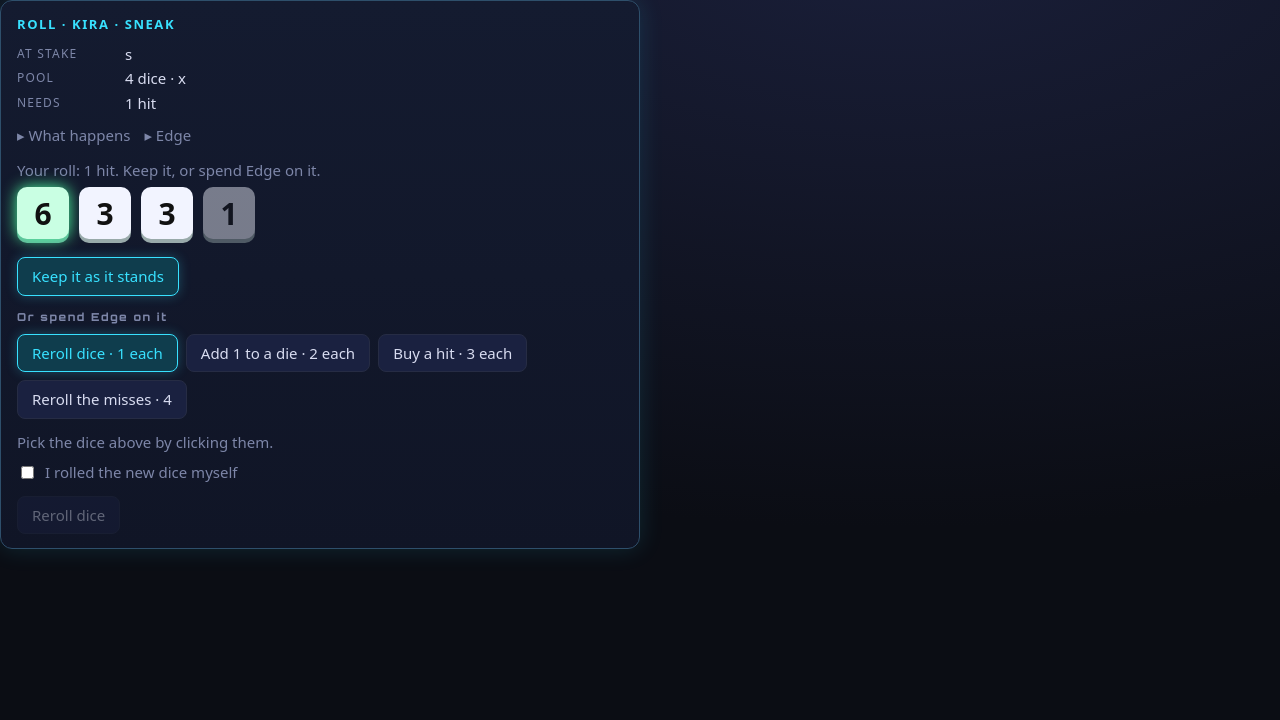
Scenario: a roll that is held › names what it will do, with no cost, until dice are picked
Expected: the button "Reroll dice" is shown, [17, 496, 120, 534]
Click the radio button labelled "Add 1 to a die · 2 each" at (278, 353), box [186, 334, 370, 372]
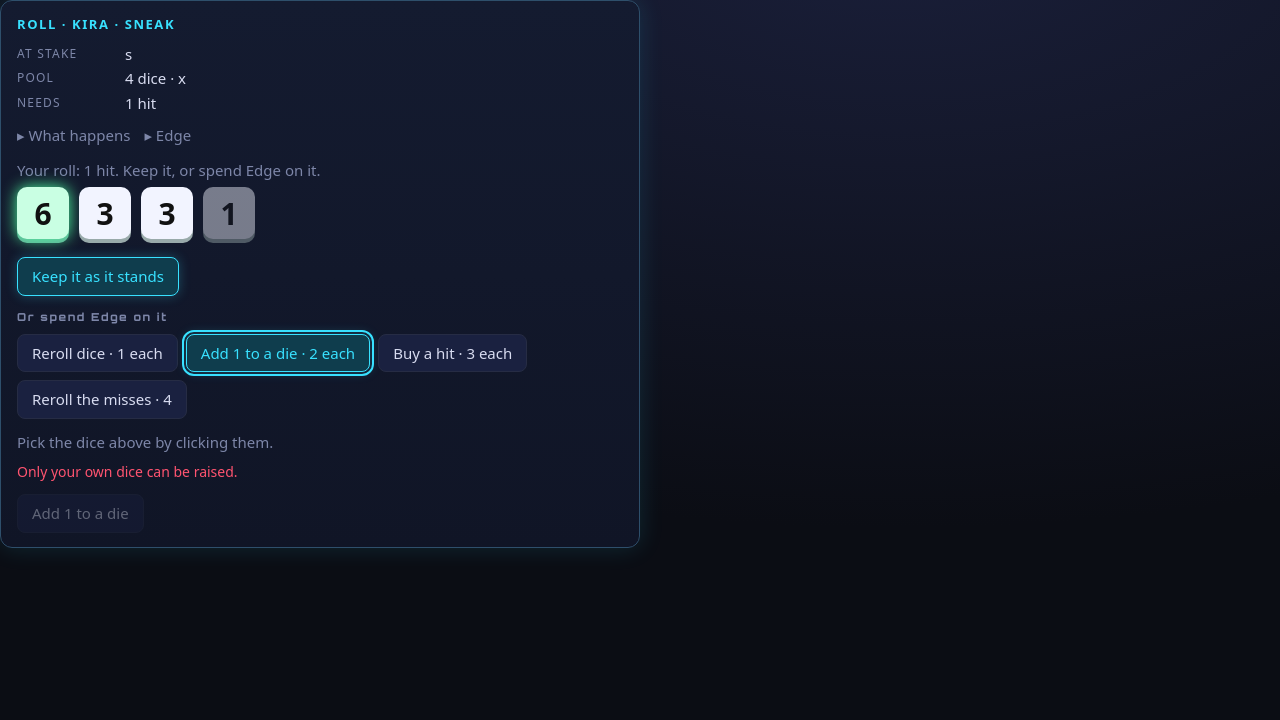
Expected: the button "Add 1 to a die" is shown, [17, 494, 144, 532]
Click the 1st button "3" at (105, 213), box [79, 187, 131, 239]
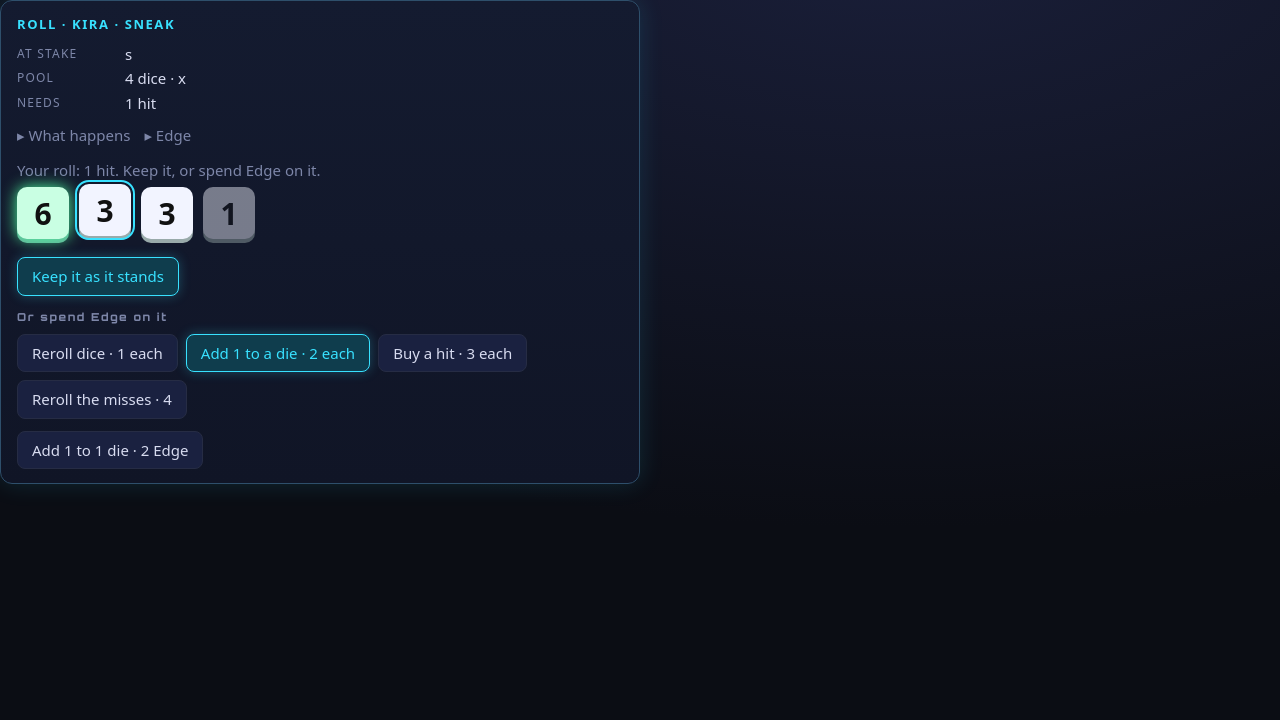
Expected: the button "Add 1 to 1 die · 2 Edge" is shown, [17, 430, 203, 469]
